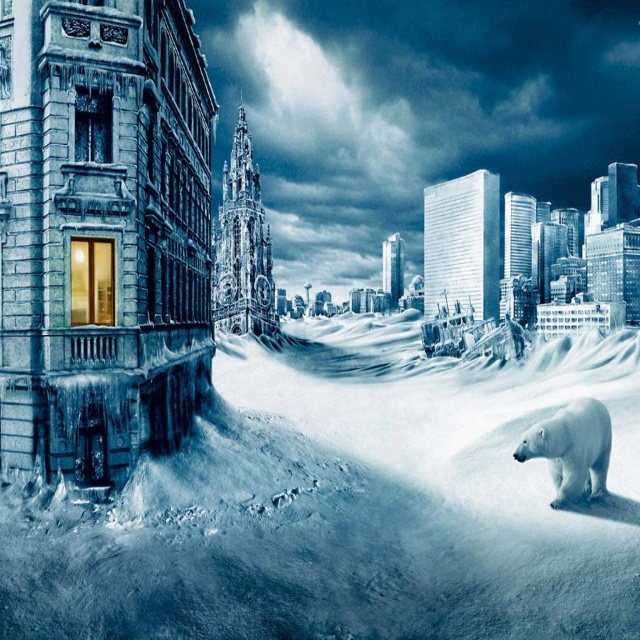Polar bear: (514, 396, 622, 506)
